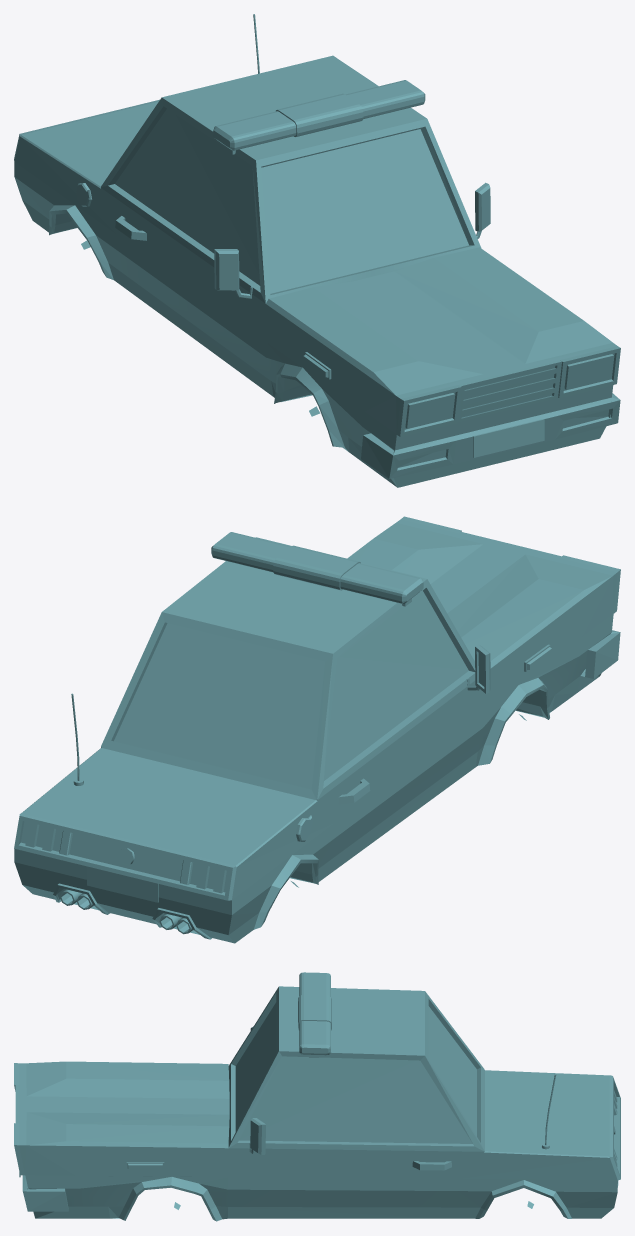
Rendered from PoliceCar_Body.FBX.
The picture shows the model from 3 angles, top to bottom: view 1: azimuth 30°, elevation 25°; view 2: azimuth 150°, elevation 25°; view 3: azimuth 270°, elevation 25°; orthographic projection. The views are drawn at different scales.
Parts seen in each view (by area): view 1: m_Car; view 2: m_Car; view 3: m_Car.
Boxes of the visible parts, x1,y1,x2,y2 form: m_Car: [14, 14, 620, 487]; m_Car: [14, 516, 620, 943]; m_Car: [14, 972, 620, 1221].
Bounding box in the file's own units: 120 × 95.15 × 299.
